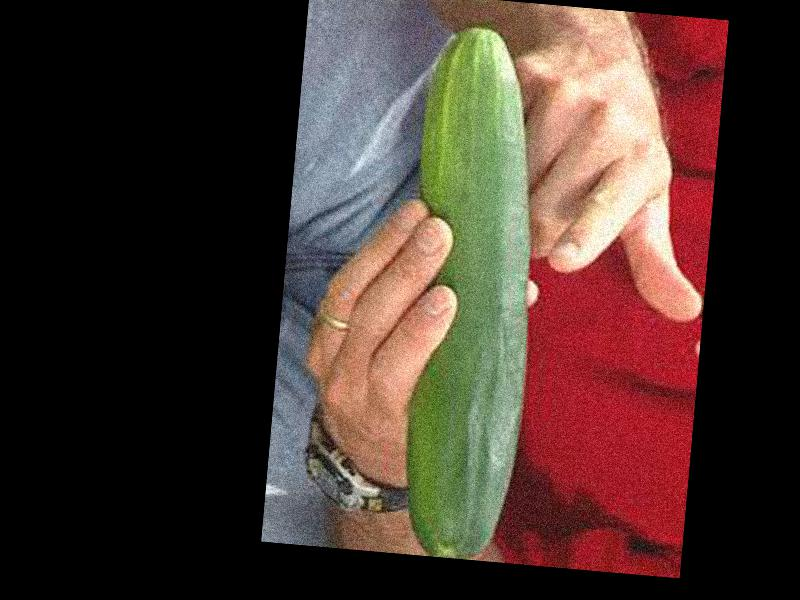Cucumber: (383, 22, 555, 563)
